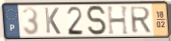2: (65, 6, 84, 37)
3: (22, 5, 39, 37)
H: (106, 5, 131, 36)
K: (43, 6, 62, 35)
R: (129, 6, 153, 35)
S: (85, 4, 109, 37)
